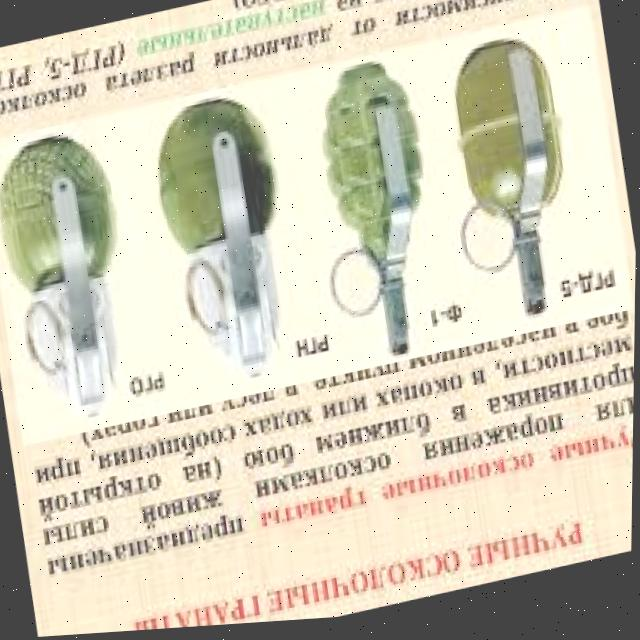grenade: (133, 85, 310, 397), (428, 30, 593, 340), (298, 58, 452, 375), (0, 120, 149, 436)
